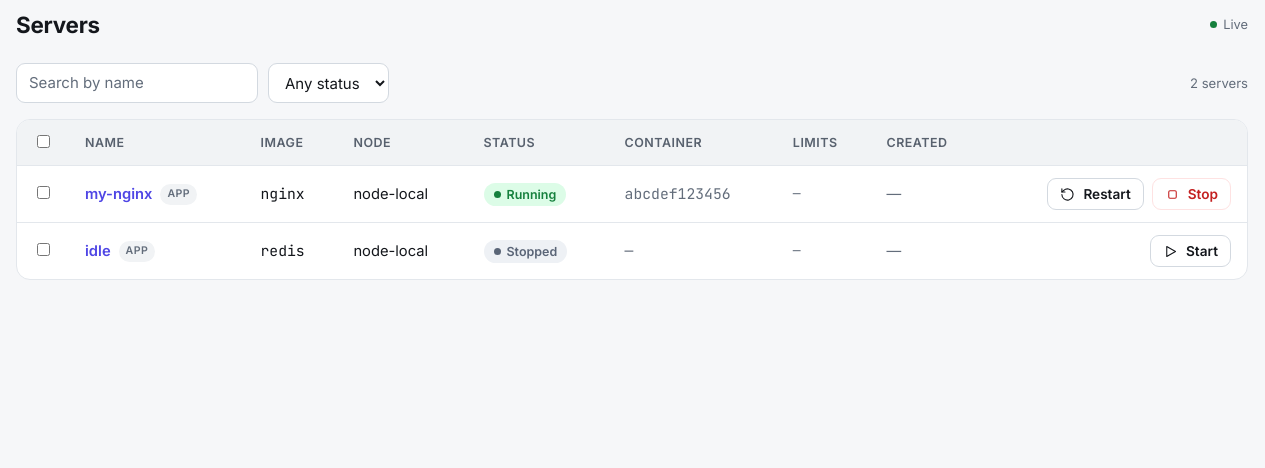
Servers › bulk actions (#238) › names each server that failed, with the reason, and keeps it selected for a retry
expect the button "my-nginx" is shown: met, box [85,183,152,206]
Click the checkbox named "Select all my servers" at {"x": 44, "y": 142}, box [37,135,50,148]
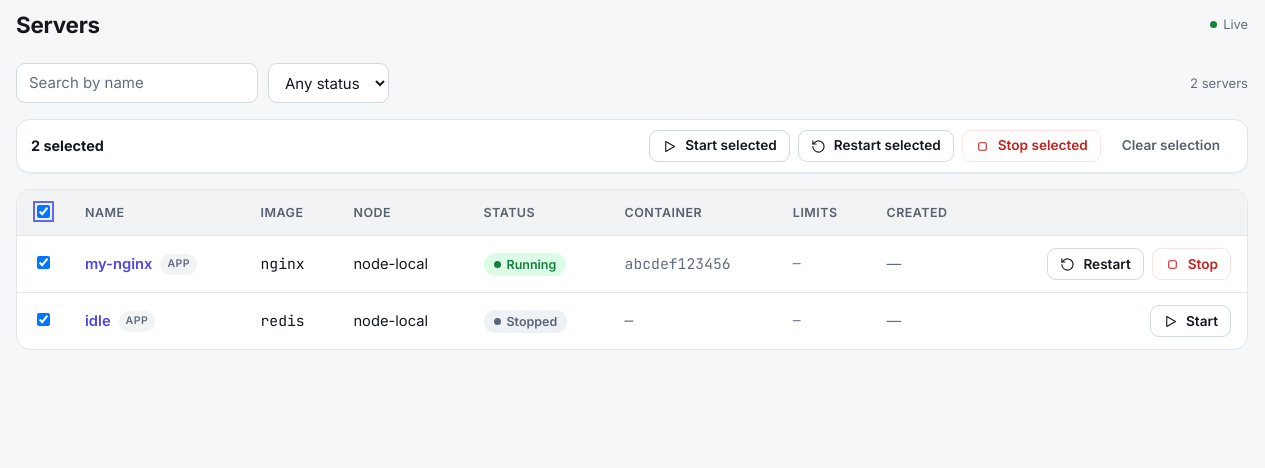
Click the button "Stop selected" at {"x": 1031, "y": 146}, box [962,130,1101,162]
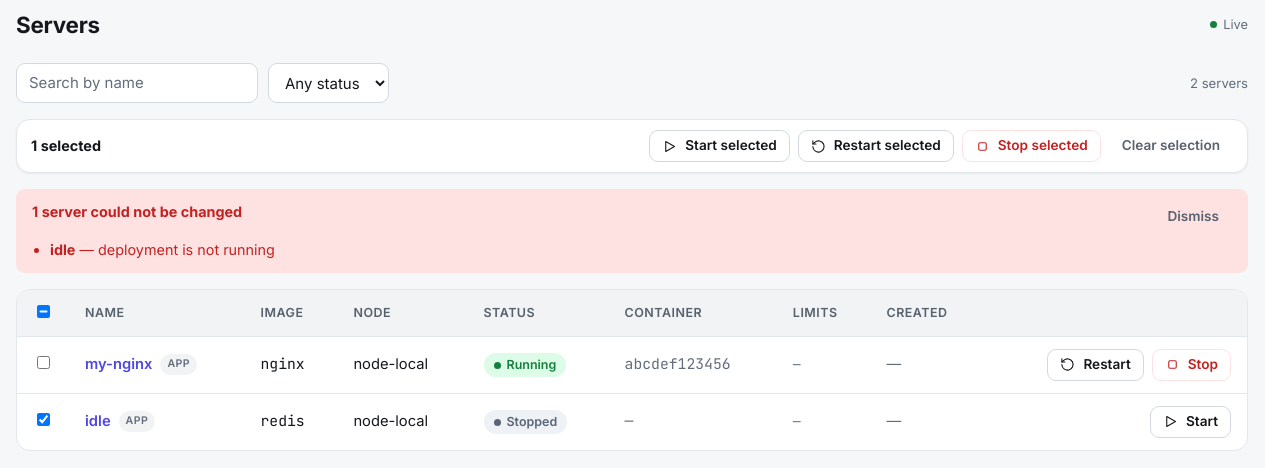
expect the checkbox named "Select idle" is checked: met, box [37,413,50,426]
expect the text "1 server could not be changed Dismiss idle — deployment is not running" is shown: met, box [16,189,1248,273]
expect the element named "Bulk actions" shows "1 selected": met, box [16,119,1248,173]
